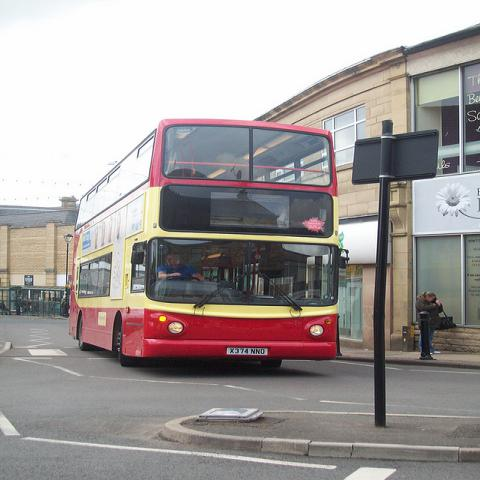bus: (69, 120, 350, 370)
